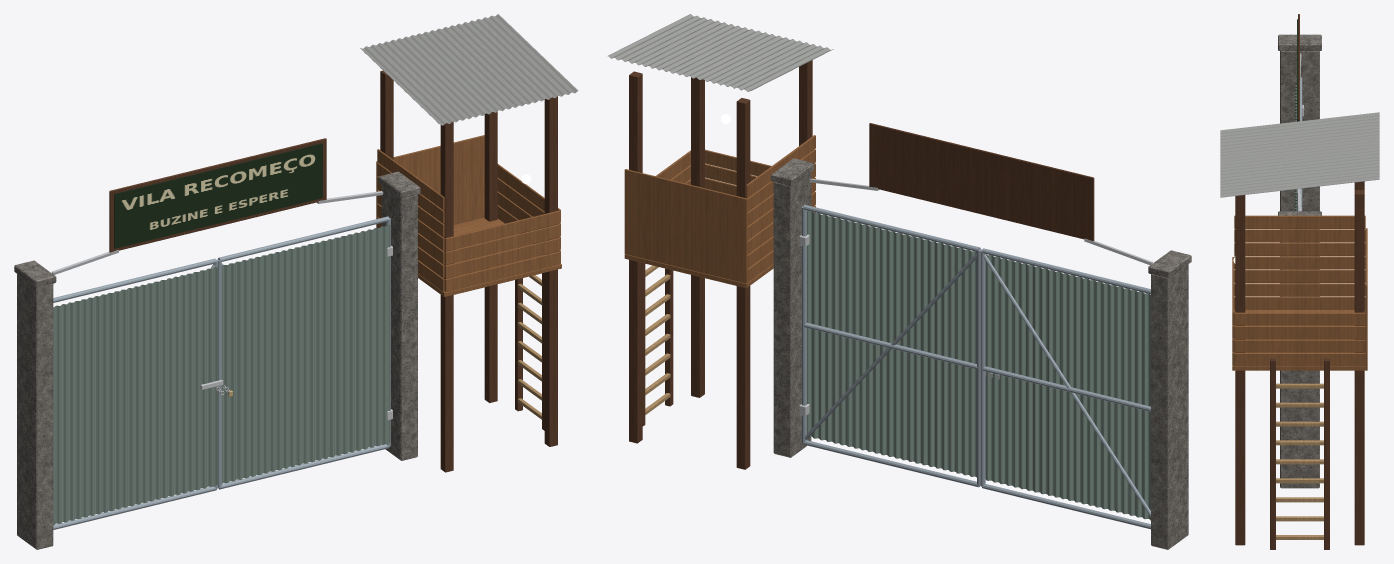
File: portao_guarita.glb
The picture shows the model from 3 angles, left to right: view 1: azimuth 30°, elevation 25°; view 2: azimuth 150°, elevation 25°; view 3: azimuth 270°, elevation 25°; orthographic projection. The views are drawn at different scales.
Visible parts, largest first — view 1: portao_guarita_porta_dir_chapa_pintada, portao_guarita_porta_esq_chapa_pintada, portao_guarita_concreto, portao_guarita_madeira, portao_guarita_madeira_escura, portao_guarita_telha_ondulada, portao_guarita_placa_portao, portao_guarita_porta_dir_aco_pintado, portao_guarita_porta_esq_aco_pintado, portao_guarita_madeira_crua; view 2: portao_guarita_porta_dir_chapa_pintada, portao_guarita_porta_esq_chapa_pintada, portao_guarita_madeira_escura, portao_guarita_concreto, portao_guarita_madeira, portao_guarita_telha_ondulada, portao_guarita_porta_dir_aco_pintado, portao_guarita_porta_esq_aco_pintado, portao_guarita_madeira_crua; view 3: portao_guarita_madeira, portao_guarita_telha_ondulada, portao_guarita_madeira_escura, portao_guarita_concreto, portao_guarita_madeira_crua.
Part boxes in pixels (x1=…): portao_guarita_porta_dir_chapa_pintada: x1=221, y1=224, x2=390, y2=483; portao_guarita_porta_esq_chapa_pintada: x1=53, y1=267, x2=218, y2=525; portao_guarita_concreto: x1=14, y1=171, x2=420, y2=549; portao_guarita_madeira: x1=376, y1=135, x2=561, y2=296; portao_guarita_madeira_escura: x1=109, y1=70, x2=557, y2=472; portao_guarita_telha_ondulada: x1=360, y1=14, x2=578, y2=125; portao_guarita_placa_portao: x1=114, y1=143, x2=322, y2=248; portao_guarita_porta_dir_aco_pintado: x1=217, y1=216, x2=390, y2=489; portao_guarita_porta_esq_aco_pintado: x1=53, y1=258, x2=217, y2=529; portao_guarita_madeira_crua: x1=517, y1=275, x2=542, y2=419; portao_guarita_porta_dir_chapa_pintada: x1=807, y1=211, x2=976, y2=477; portao_guarita_porta_esq_chapa_pintada: x1=985, y1=254, x2=1150, y2=520; portao_guarita_madeira_escura: x1=629, y1=60, x2=1094, y2=469; portao_guarita_concreto: x1=771, y1=158, x2=1191, y2=549; portao_guarita_madeira: x1=624, y1=135, x2=815, y2=288; portao_guarita_telha_ondulada: x1=608, y1=14, x2=833, y2=91; portao_guarita_porta_dir_aco_pintado: x1=801, y1=204, x2=981, y2=487; portao_guarita_porta_esq_aco_pintado: x1=980, y1=248, x2=1150, y2=529; portao_guarita_madeira_crua: x1=645, y1=265, x2=670, y2=415; portao_guarita_madeira: x1=1232, y1=215, x2=1367, y2=370; portao_guarita_telha_ondulada: x1=1220, y1=112, x2=1379, y2=197; portao_guarita_madeira_escura: x1=1235, y1=14, x2=1364, y2=549; portao_guarita_concreto: x1=1278, y1=34, x2=1321, y2=488; portao_guarita_madeira_crua: x1=1276, y1=383, x2=1323, y2=539.
Size of the model in its own units: 5.92 by 4.13 by 1.6.
11 materials, 5 textured.
